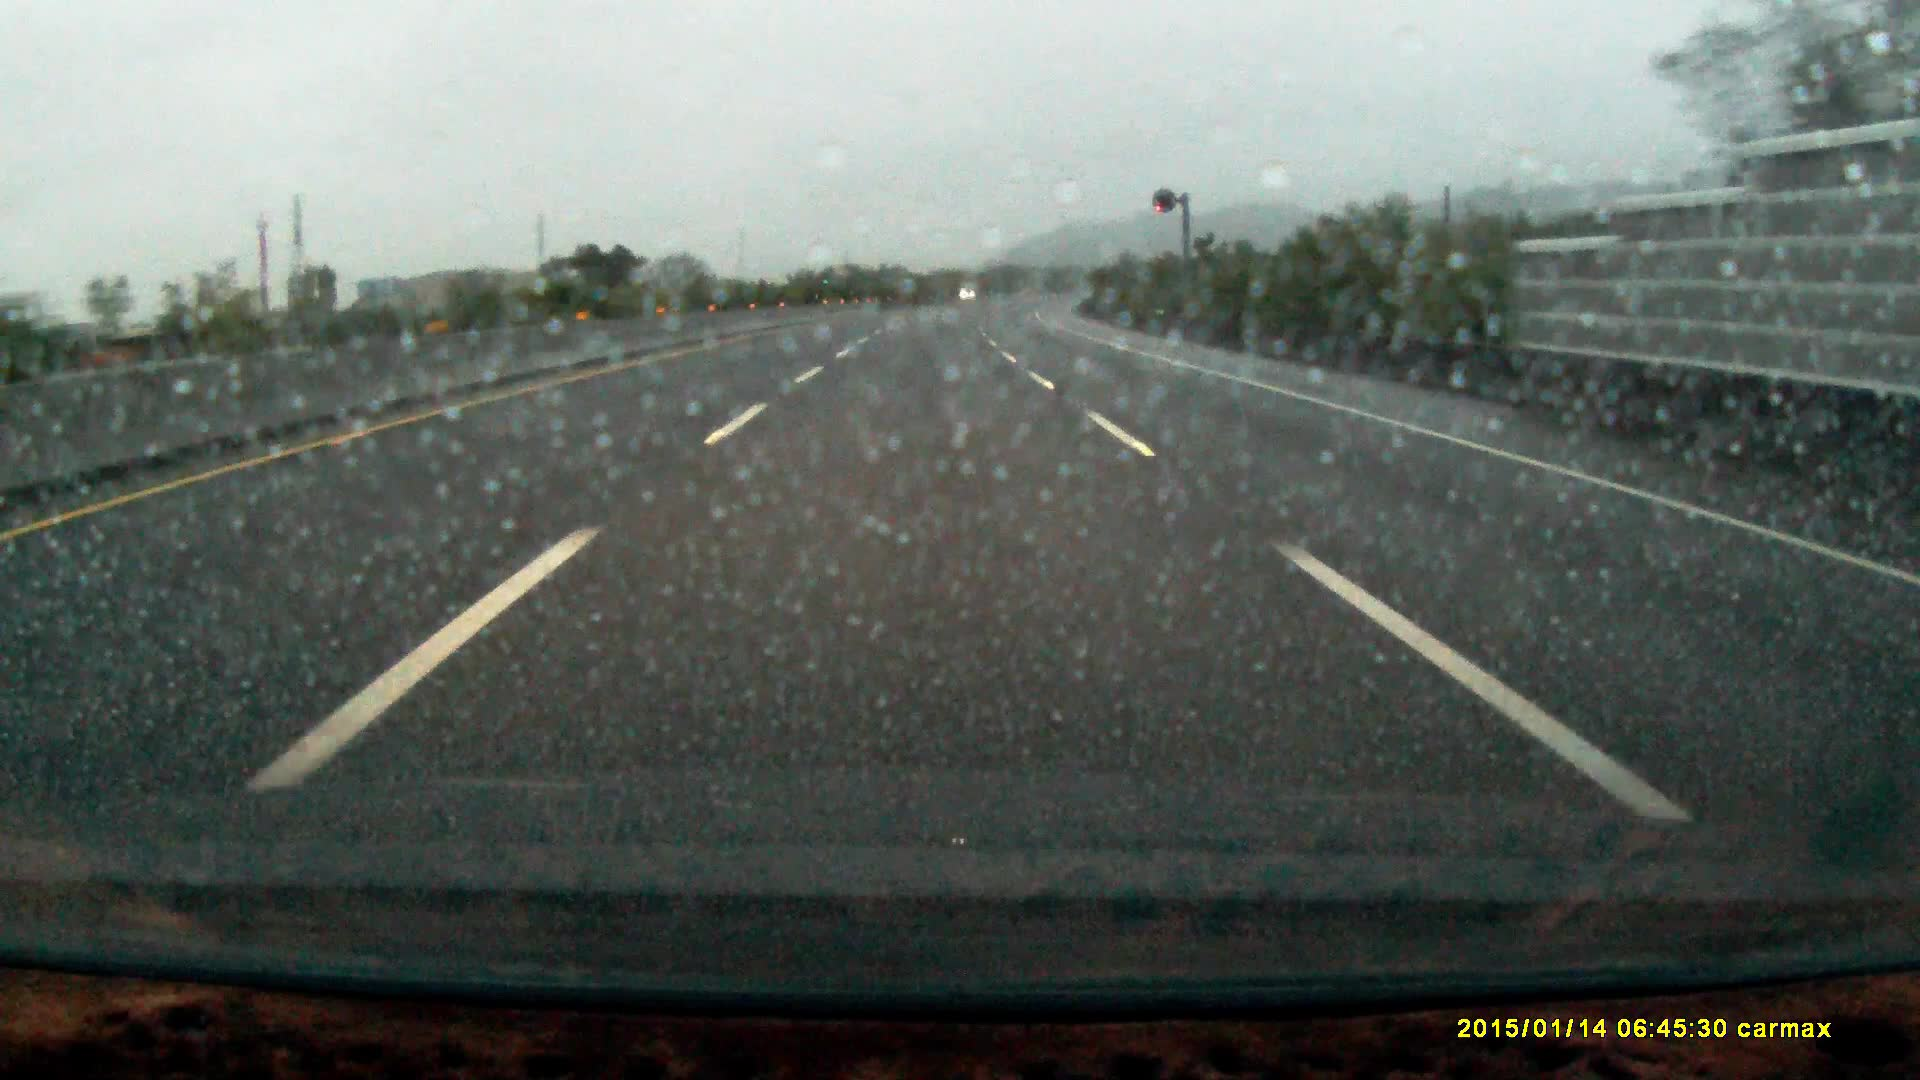vehicle: (822, 268, 858, 305)
